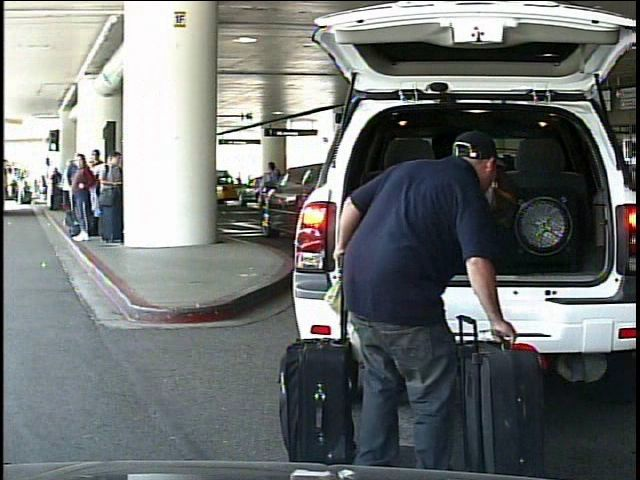person: (320, 111, 555, 480), (259, 160, 281, 226), (18, 176, 28, 207)
